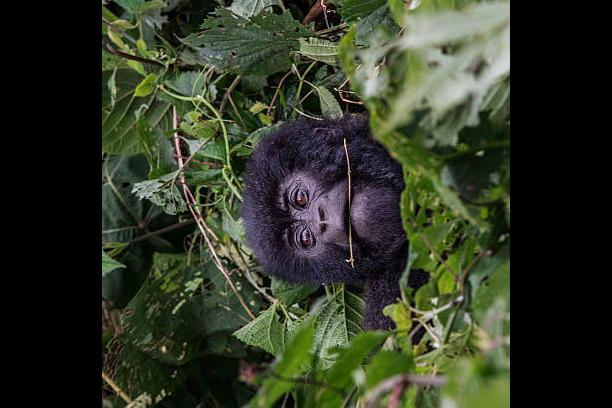goriile_montagne: (238, 116, 396, 302)
